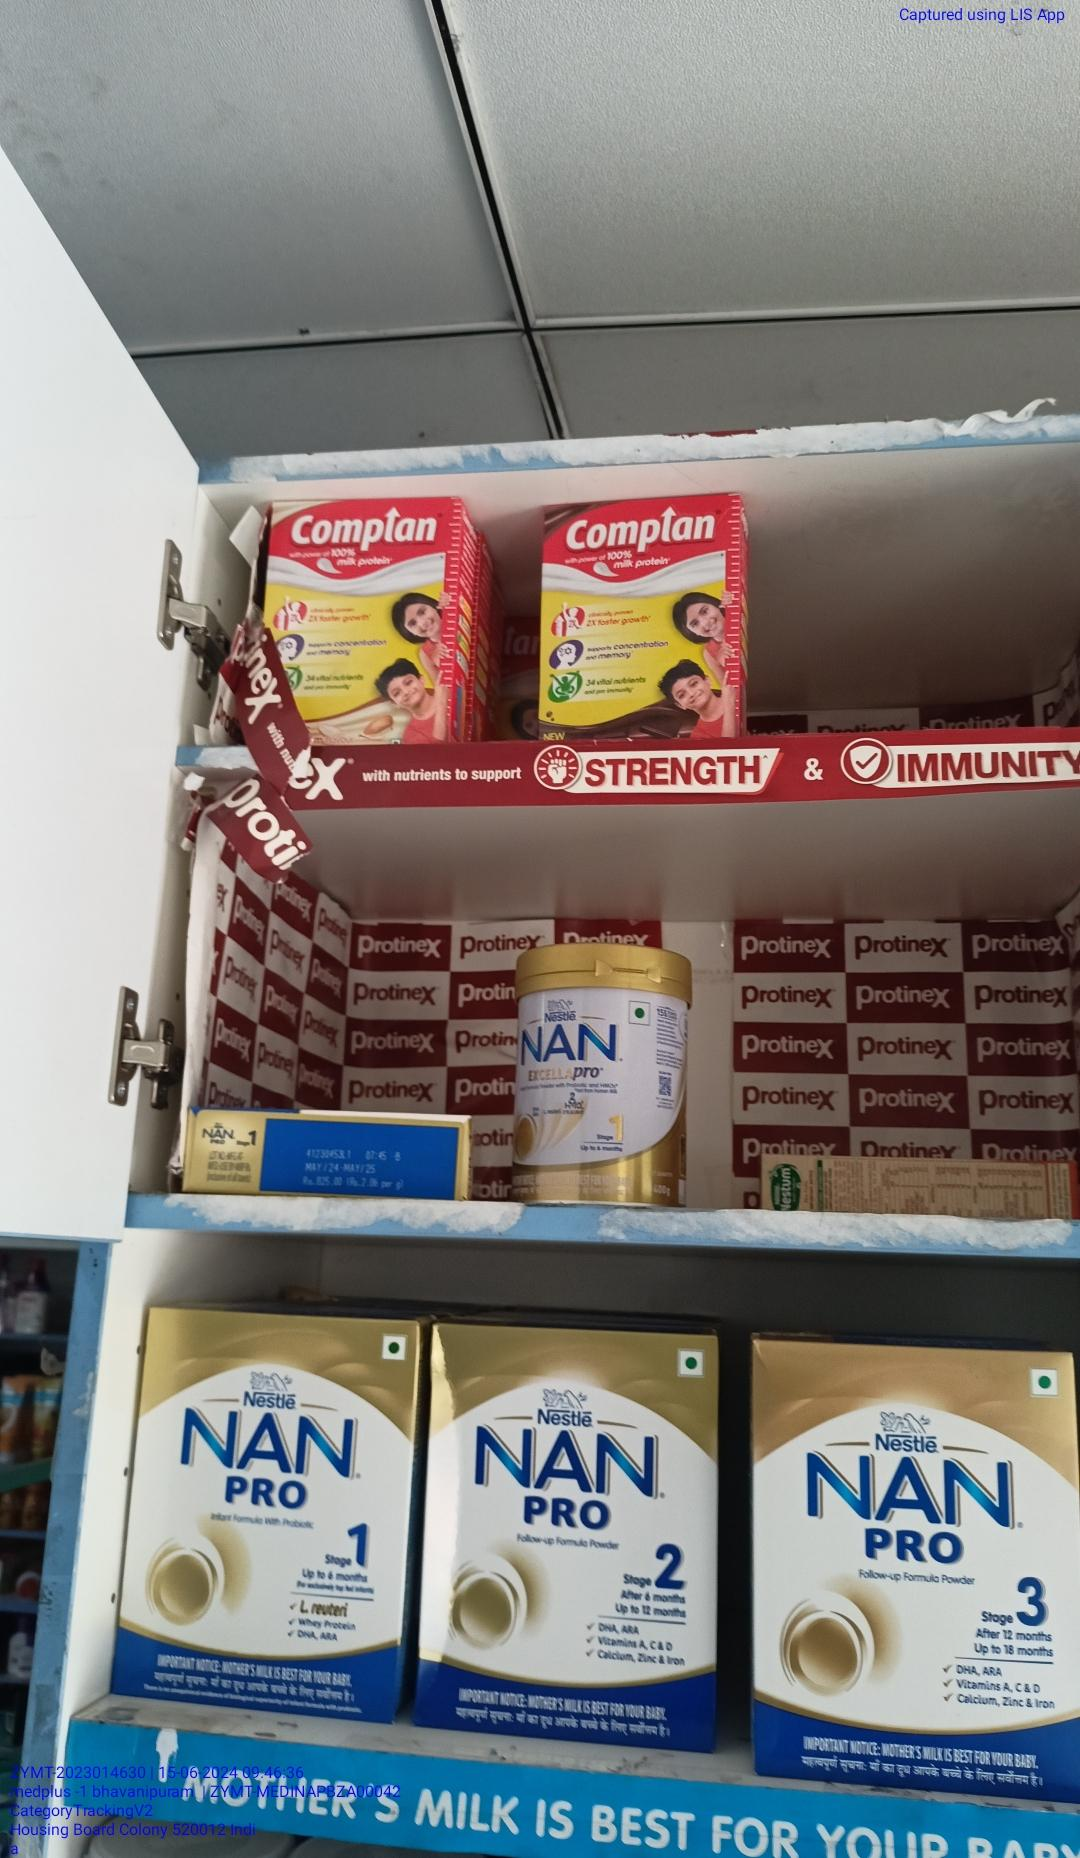COMPLAN_CHOCOLATE_500_GMS_PACK: (539, 505, 738, 738)
COMPLAN_KESAR_BADAM_500_GMS_PACK: (291, 496, 449, 737)
